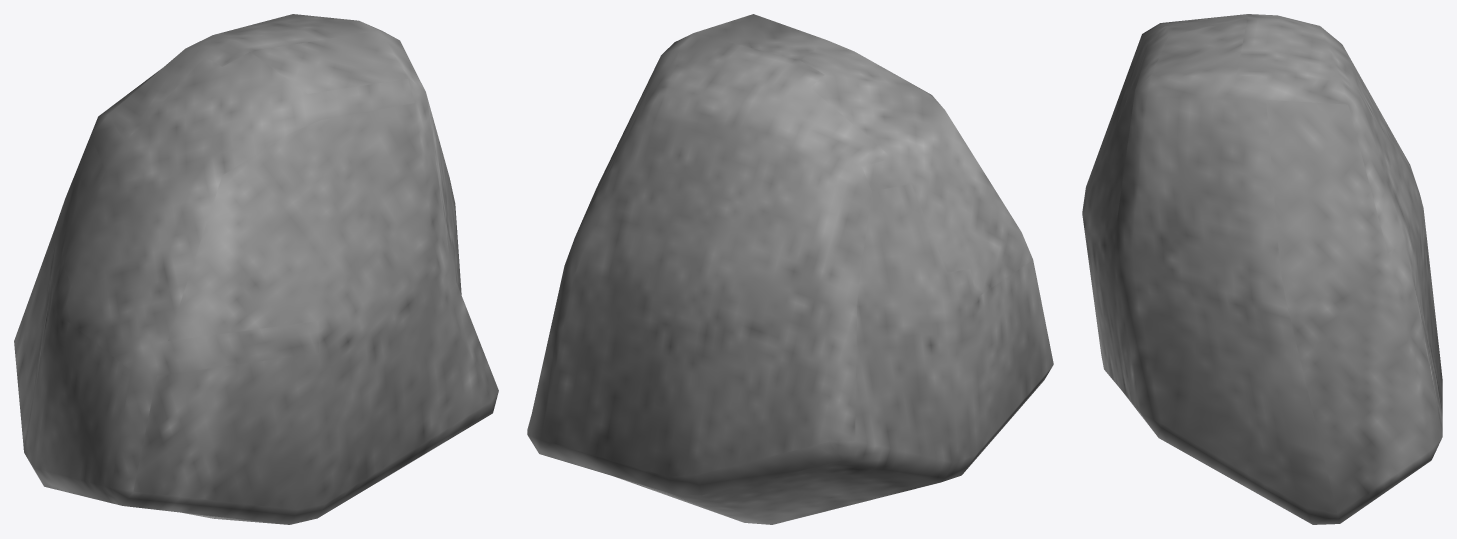
The model's file is Stone03.fbx.
3 renders of one model, left to right at view 1: azimuth 30°, elevation 25°; view 2: azimuth 150°, elevation 25°; view 3: azimuth 270°, elevation 25°, orthographic. The views are drawn at different scales.
Visible parts, largest first — view 1: Stone03_LOD0; view 2: Stone03_LOD0; view 3: Stone03_LOD0.
Boxes of the visible parts, box(x1,y1,x2,y2) form: Stone03_LOD0: box(14, 14, 498, 524); Stone03_LOD0: box(527, 14, 1053, 524); Stone03_LOD0: box(1082, 14, 1442, 524).
Size of what is drawn, in the model's own units: 0.889 by 0.8982 by 0.6722.
